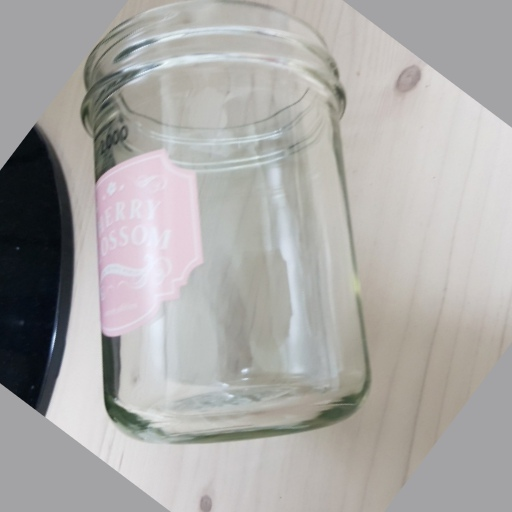Glass_5: (77, 1, 371, 446)
